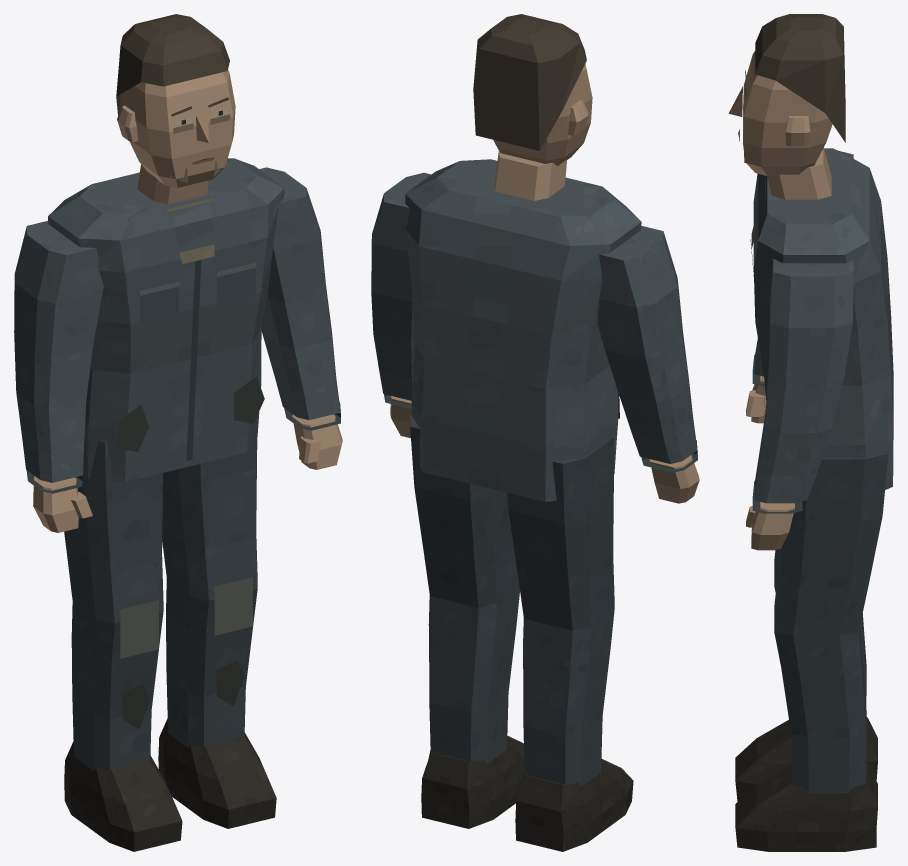
Rendered from rabochii.glb.
3 views of the same model, side by side, from view 1: azimuth 30°, elevation 25°; view 2: azimuth 150°, elevation 25°; view 3: azimuth 270°, elevation 25° (orthographic).
Visible parts, largest first — view 1: Factory_Worker_175cm; view 2: Factory_Worker_175cm; view 3: Factory_Worker_175cm.
Boxes of the visible parts, x1,y1,x2,y2 form: Factory_Worker_175cm: [14, 14, 342, 851]; Factory_Worker_175cm: [371, 14, 699, 851]; Factory_Worker_175cm: [728, 14, 893, 851].
Bounding box in the file's own units: 0.7 × 1.75 × 0.332.
1 material, 1 textured.
